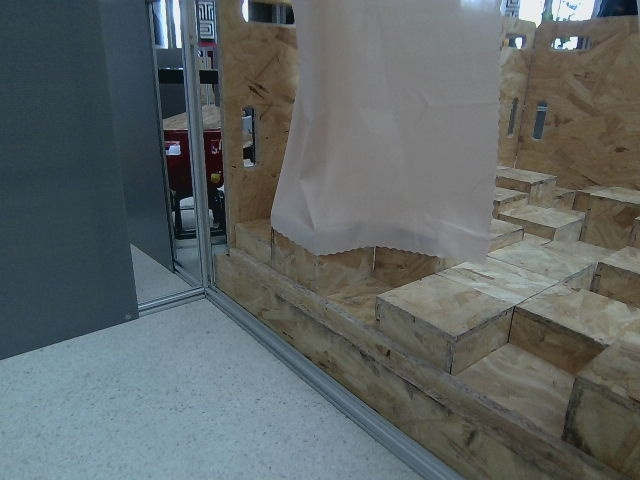curtain: (256, 0, 525, 269)
